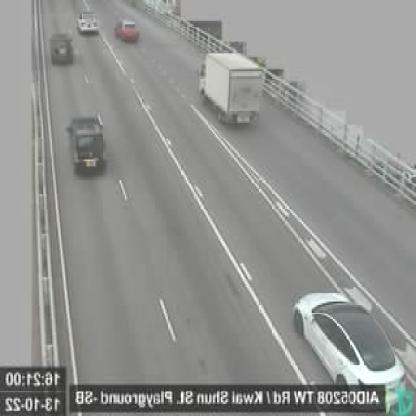Car: (290, 288, 404, 396), (66, 113, 105, 176), (51, 33, 74, 64), (114, 18, 139, 43), (77, 14, 97, 34)
Truck: (198, 52, 260, 129)
